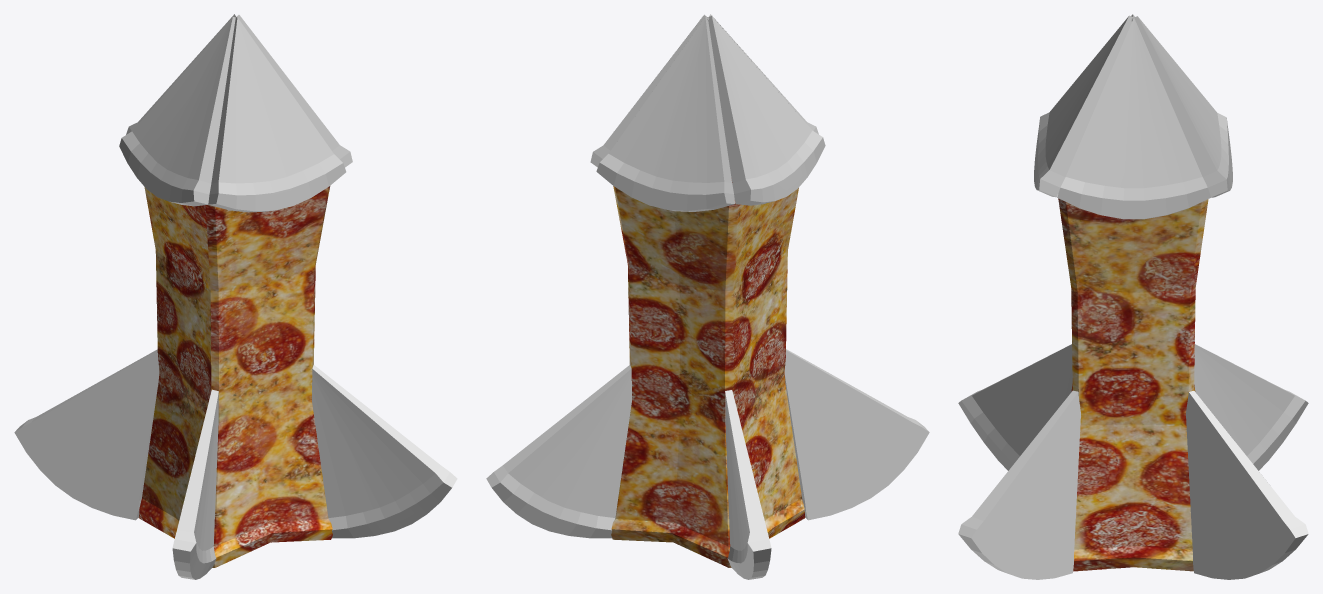
The model's file is rocket.fbx.
The picture shows the model from 3 angles, left to right: view 1: azimuth 30°, elevation 25°; view 2: azimuth 150°, elevation 25°; view 3: azimuth 270°, elevation 25°; orthographic projection. The views are drawn at different scales.
Visible parts, largest first — view 1: Cube_Cube.000, Cube.002_Cube.003, Cube.001_Cube.002; view 2: Cube_Cube.000, Cube.002_Cube.003, Cube.001_Cube.002; view 3: Cube_Cube.000, Cube.002_Cube.003, Cube.001_Cube.002.
Part boxes in pixels (x1=…): Cube_Cube.000: x1=138, y1=186, x2=332, y2=567; Cube.002_Cube.003: x1=14, y1=349, x2=457, y2=579; Cube.001_Cube.002: x1=119, y1=14, x2=352, y2=212; Cube_Cube.000: x1=611, y1=182, x2=805, y2=567; Cube.002_Cube.003: x1=486, y1=349, x2=929, y2=579; Cube.001_Cube.002: x1=590, y1=14, x2=825, y2=211; Cube_Cube.000: x1=1058, y1=198, x2=1208, y2=571; Cube.002_Cube.003: x1=958, y1=344, x2=1308, y2=579; Cube.001_Cube.002: x1=1034, y1=14, x2=1232, y2=219.
Size of the model in its own units: 1315 by 2254 by 1366.
